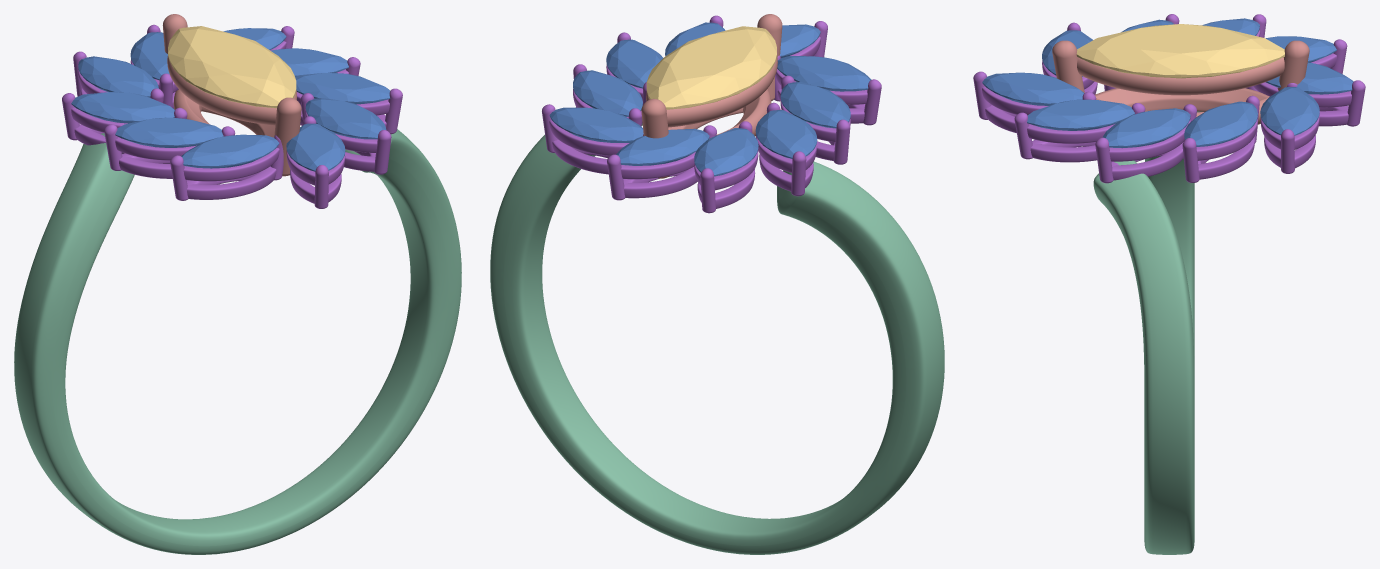
File: ring-2.glb
The picture shows the model from 3 angles, left to right: view 1: azimuth 30°, elevation 25°; view 2: azimuth 150°, elevation 25°; view 3: azimuth 270°, elevation 25°; orthographic projection.
Visible parts, largest first — view 1: Ring 2.3dm, Gem (×11); view 2: Ring 2.3dm, Gem (×11); view 3: Ring 2.3dm, Gem (×10).
Part boxes in pixels (x1,y1,x2,y2): Ring 2.3dm: [14, 14, 461, 554]; Gem (×11): [71, 26, 390, 171]; Ring 2.3dm: [490, 14, 944, 554]; Gem (×11): [549, 22, 871, 176]; Ring 2.3dm: [973, 14, 1365, 554]; Gem (×10): [982, 18, 1353, 148].
Bounding box in the file's own units: 2.41 × 2.59 × 1.87.
